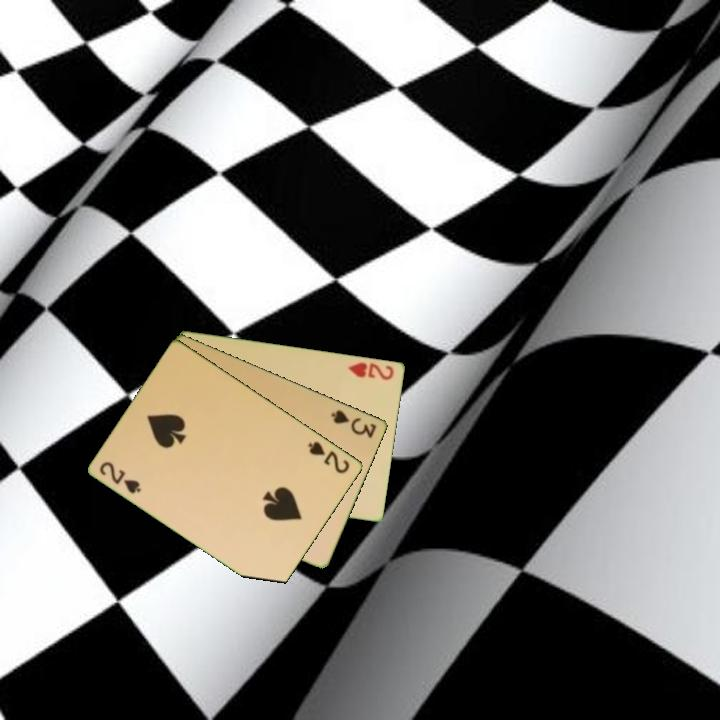2h: (345, 358, 397, 383)
2s: (304, 437, 353, 476), (96, 458, 144, 497)
3s: (328, 406, 380, 441)
